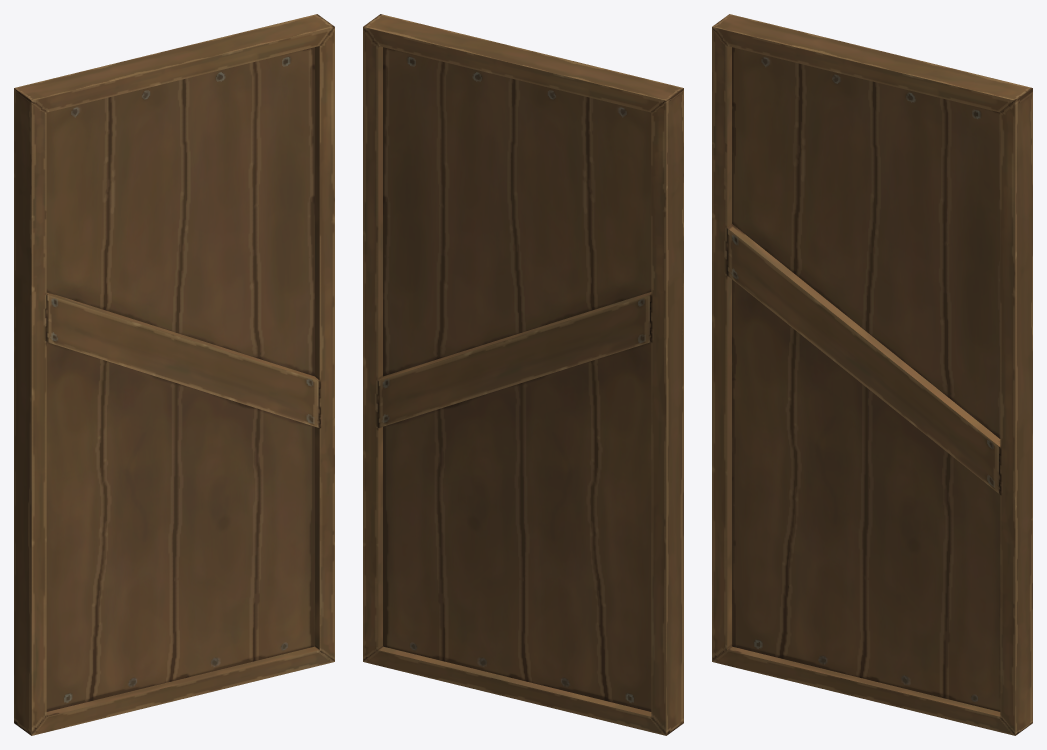
The model's file is Wall_001.fbx.
3 renders of one model, left to right at view 1: azimuth 30°, elevation 25°; view 2: azimuth 150°, elevation 25°; view 3: azimuth 330°, elevation 25°, orthographic.
Visible parts, largest first — view 1: Wall_001; view 2: Wall_001; view 3: Wall_001.
Boxes of the visible parts, x1,y1,x2,y2 form: Wall_001: [14, 14, 334, 735]; Wall_001: [363, 14, 683, 735]; Wall_001: [712, 14, 1032, 735].
Size of the model in its own units: 100 by 200 by 10.
